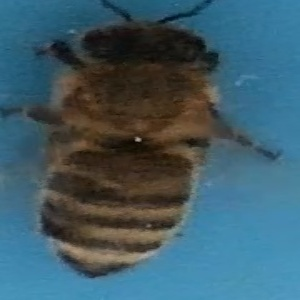bee: (10, 8, 288, 282)
